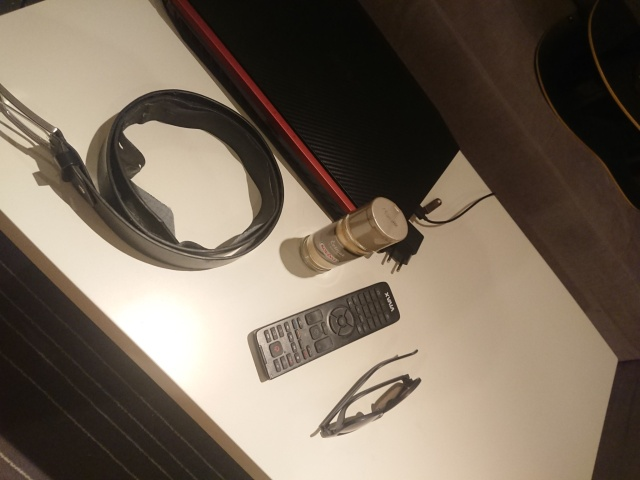Kotanyi Garlic Granules 70g: (296, 194, 411, 276)
